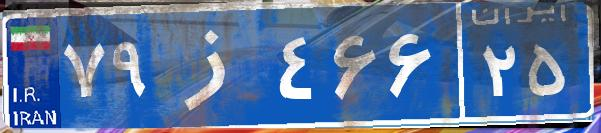2: (475, 38, 525, 113)
4: (273, 28, 330, 110)
5: (525, 38, 570, 115)
6: (385, 28, 445, 110), (330, 28, 385, 110)
7: (57, 26, 110, 107)
9: (110, 28, 158, 105)
ز: (158, 15, 273, 115)
